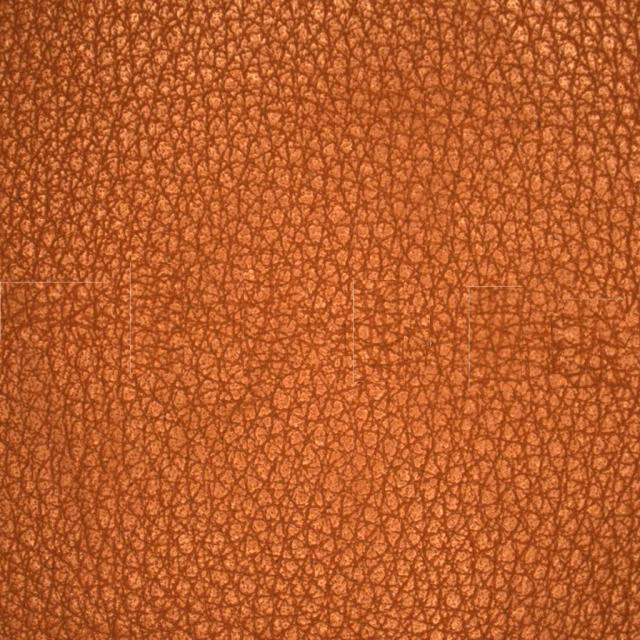Healed Injury: (41, 246, 338, 394), (427, 277, 625, 421)
